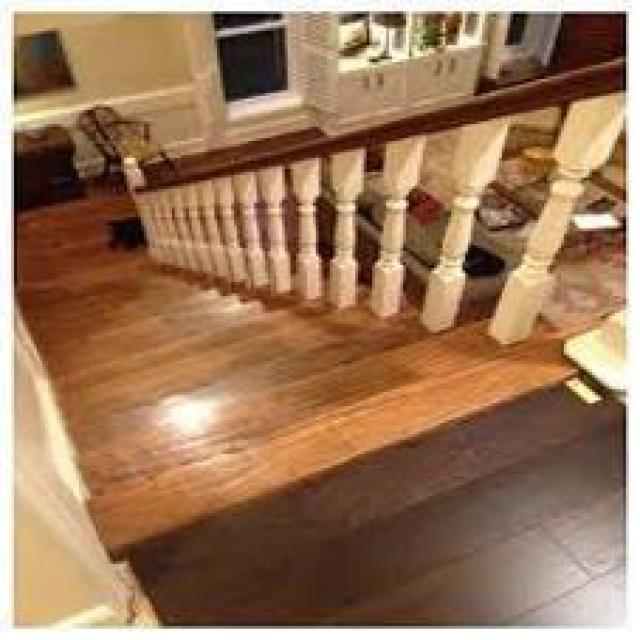downstair: (75, 331, 450, 517)
